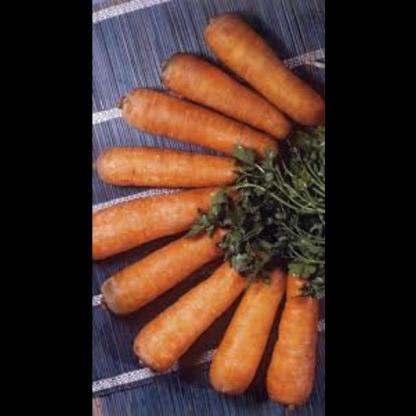carrot: (125, 248, 262, 368), (91, 218, 235, 314), (110, 92, 283, 167), (203, 20, 324, 126), (207, 254, 286, 402), (157, 54, 290, 140), (91, 187, 250, 258), (260, 248, 323, 416), (91, 140, 244, 194)
